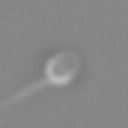normal: (1, 77, 49, 124)
